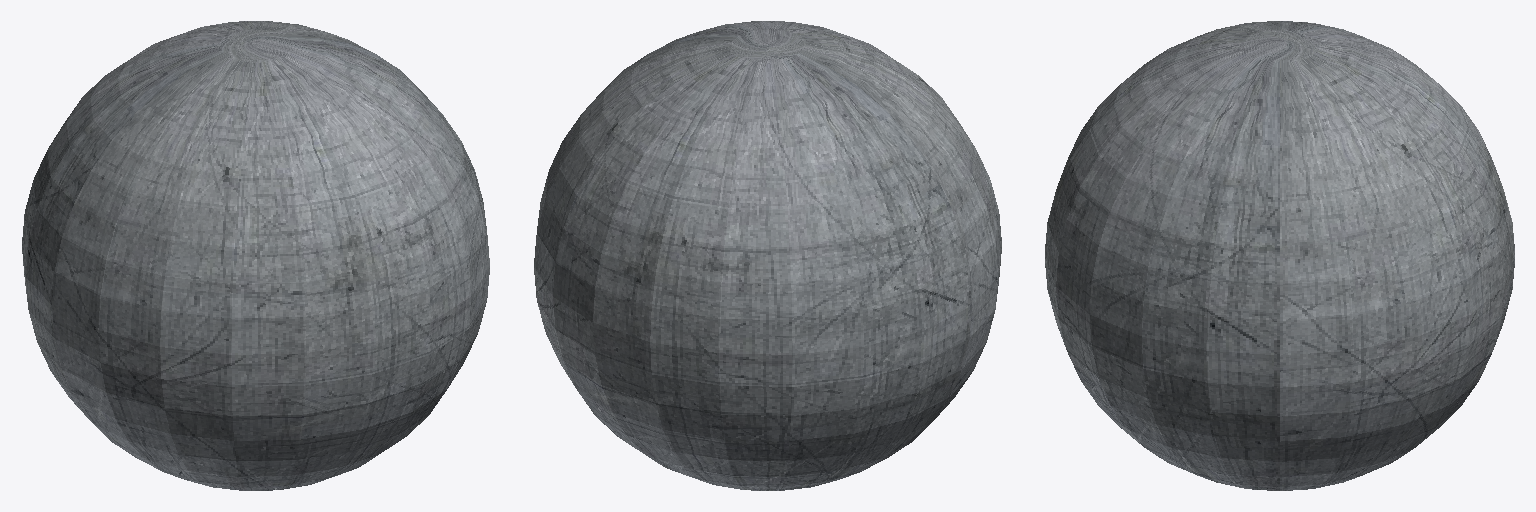
The picture shows the model from 3 angles: view 1: azimuth 30°, elevation 25°; view 2: azimuth 150°, elevation 25°; view 3: azimuth 270°, elevation 25°; orthographic projection.
Parts seen in each view (by area): view 1: pSphere1; view 2: pSphere1; view 3: pSphere1.
Part boxes in pixels (left/top/right/bottom): pSphere1: left=22, top=21, right=489, bottom=490; pSphere1: left=534, top=21, right=1001, bottom=490; pSphere1: left=1045, top=21, right=1514, bottom=490.
Bounding box in the file's own units: 2 × 2 × 2.
1 materials, 1 textured.